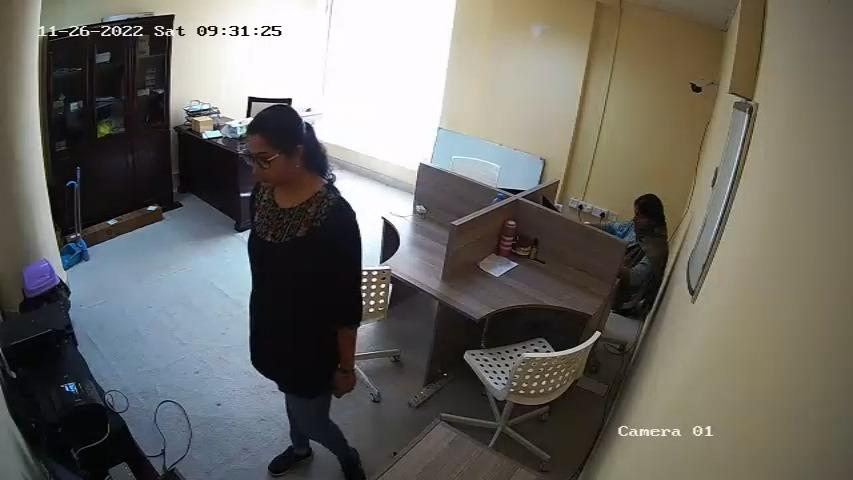no_apron: (254, 191, 335, 371)
